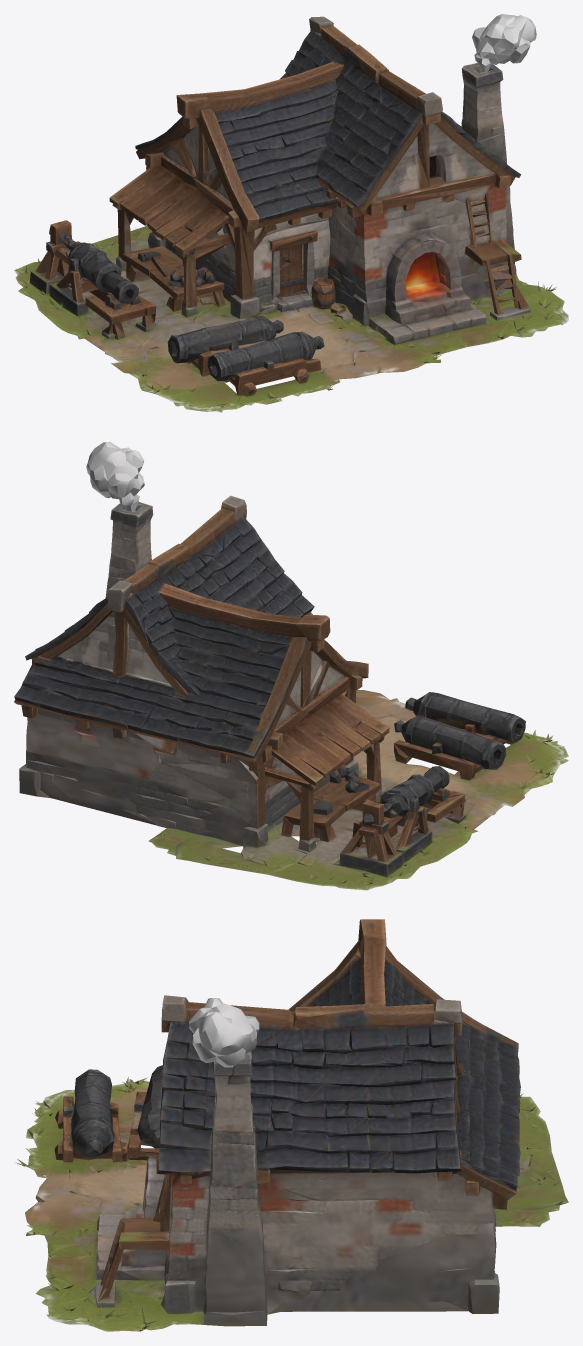
The model's file is siege.glb.
The picture shows the model from 3 angles, top to bottom: view 1: azimuth 30°, elevation 25°; view 2: azimuth 150°, elevation 25°; view 3: azimuth 270°, elevation 25°; orthographic projection. The views are drawn at different scales.
Size of the model in its own units: 1.9 by 1.09 by 1.72.
Materials: 1 (1 with a texture image).
